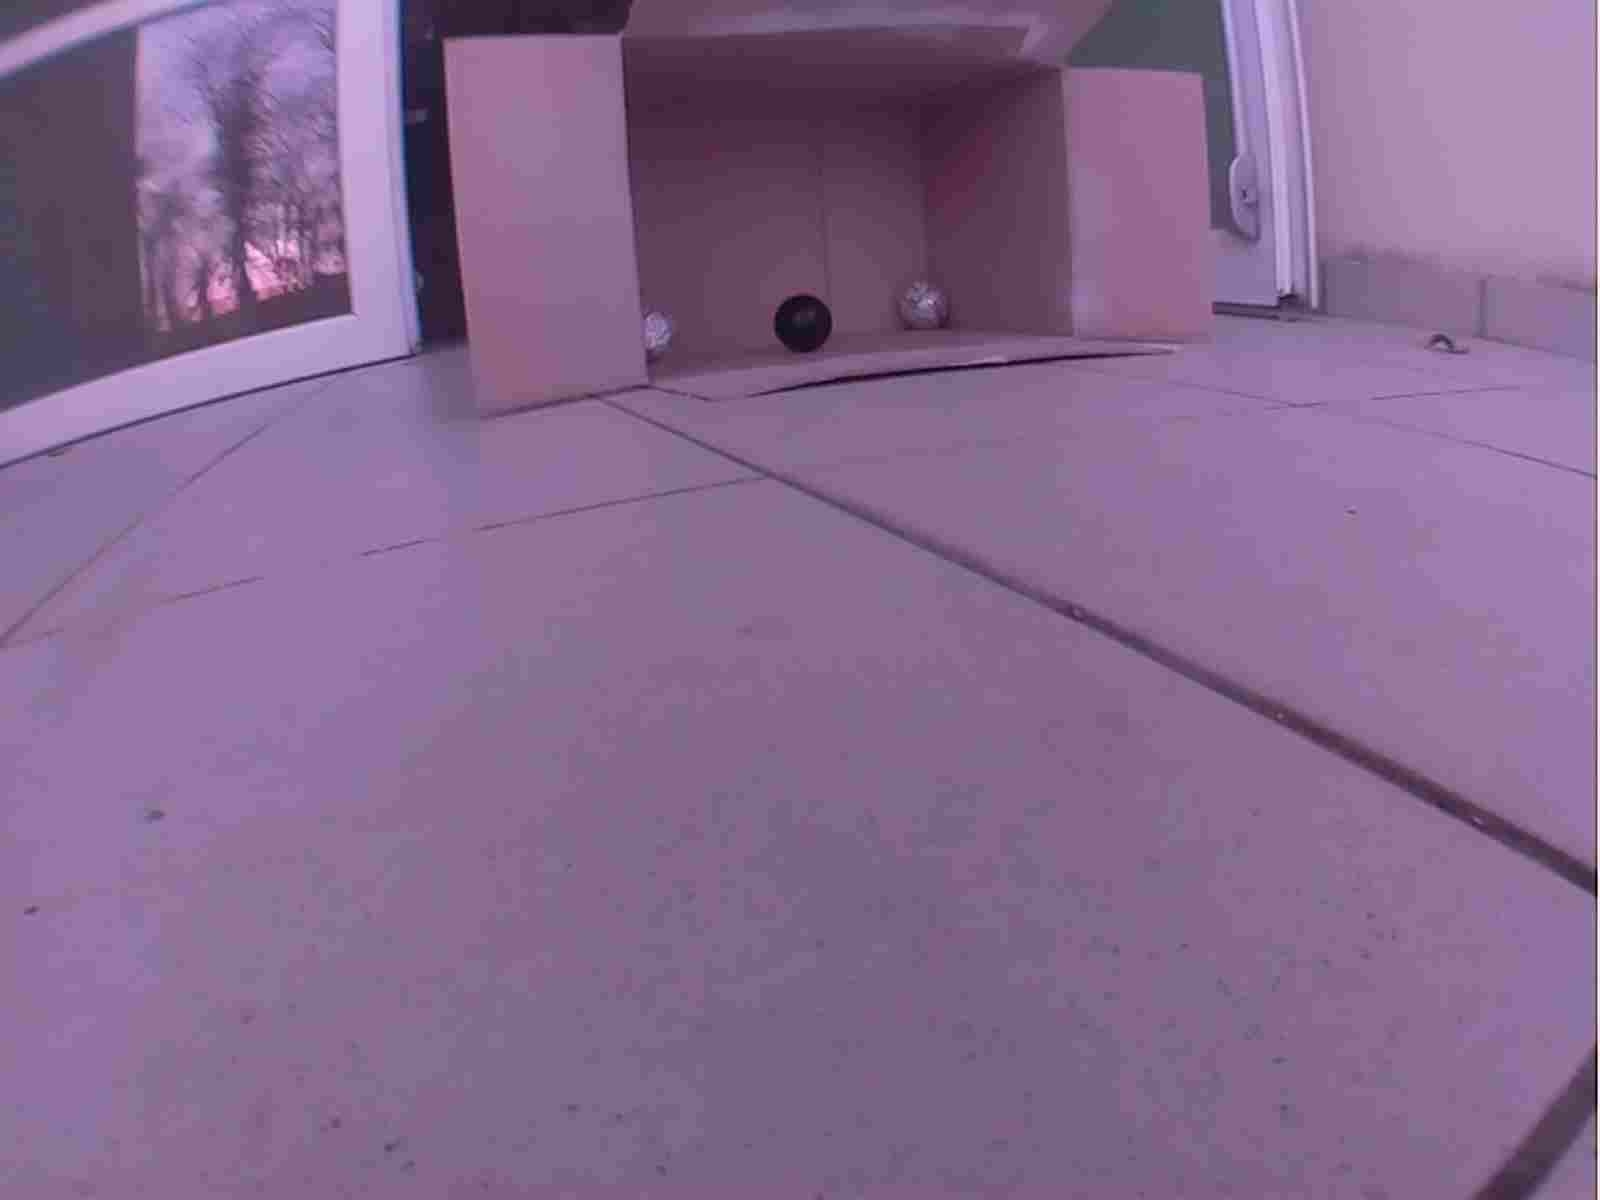bianca: (900, 280, 952, 330), (643, 309, 673, 361)
nera: (772, 292, 833, 354)
